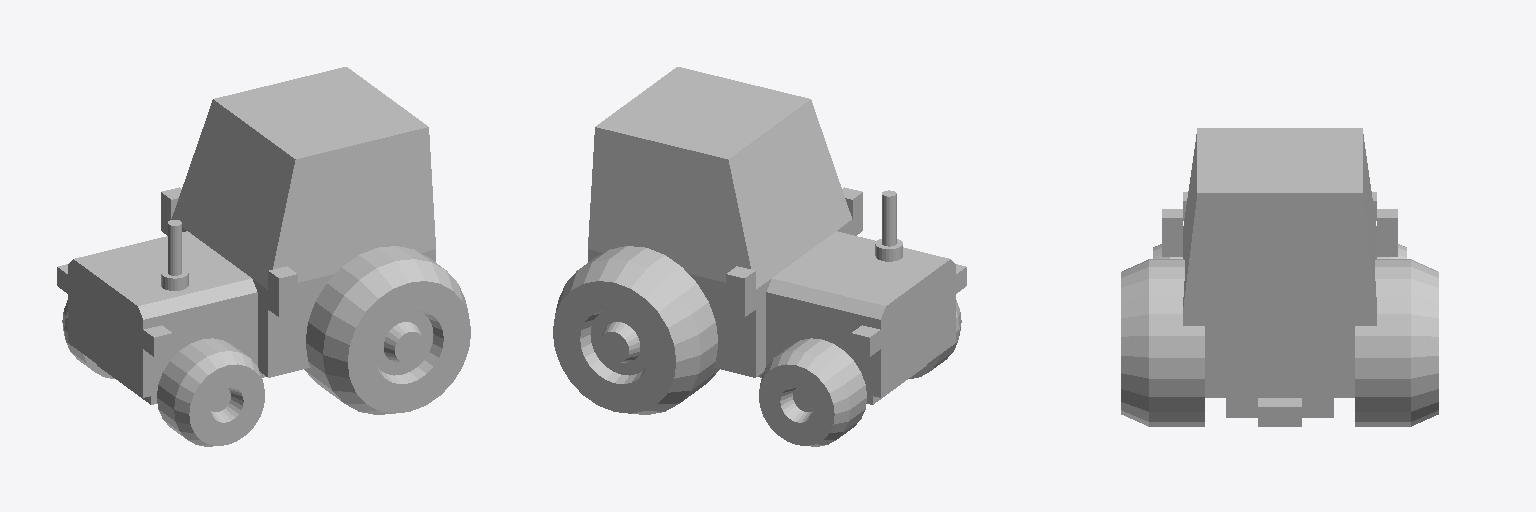
Rendered from tractor.obj.
3 renders of one model, left to right at view 1: azimuth 30°, elevation 25°; view 2: azimuth 150°, elevation 25°; view 3: azimuth 270°, elevation 25°, orthographic.
Visible parts, largest first — view 1: body, wheel_backLeft, wheel_frontLeft; view 2: body, wheel_backRight, wheel_frontRight; view 3: body, wheel_backLeft, wheel_backRight.
Boxes of the visible parts, <box> form: body: <box>57,67,435,404</box>; wheel_backLeft: <box>304,246,470,414</box>; wheel_frontLeft: <box>157,338,264,446</box>; body: <box>588,67,966,404</box>; wheel_backRight: <box>553,246,719,414</box>; wheel_frontRight: <box>759,338,866,446</box>; body: <box>1162,128,1397,426</box>; wheel_backLeft: <box>1121,259,1204,426</box>; wheel_backRight: <box>1355,259,1438,426</box>.
Size of the model in its own units: 1.36 by 1.1 by 1.25.